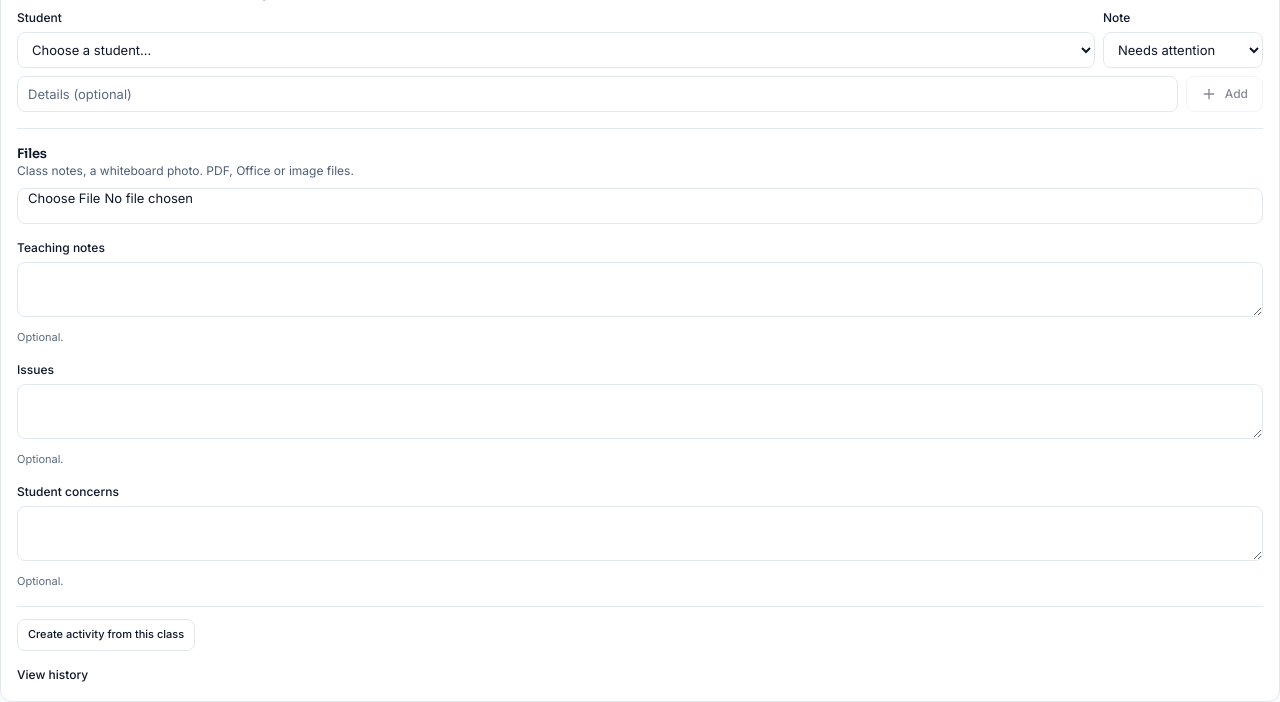
Test case: DsrPanel — follow-up (create activity, history) › creates the activity and shows a link to it on success
The width and height of the screenshot is (1280, 702).
(page scrolled)
Step 1. Click the button "Create activity from this class" → (106,635), box [17,619,195,651]
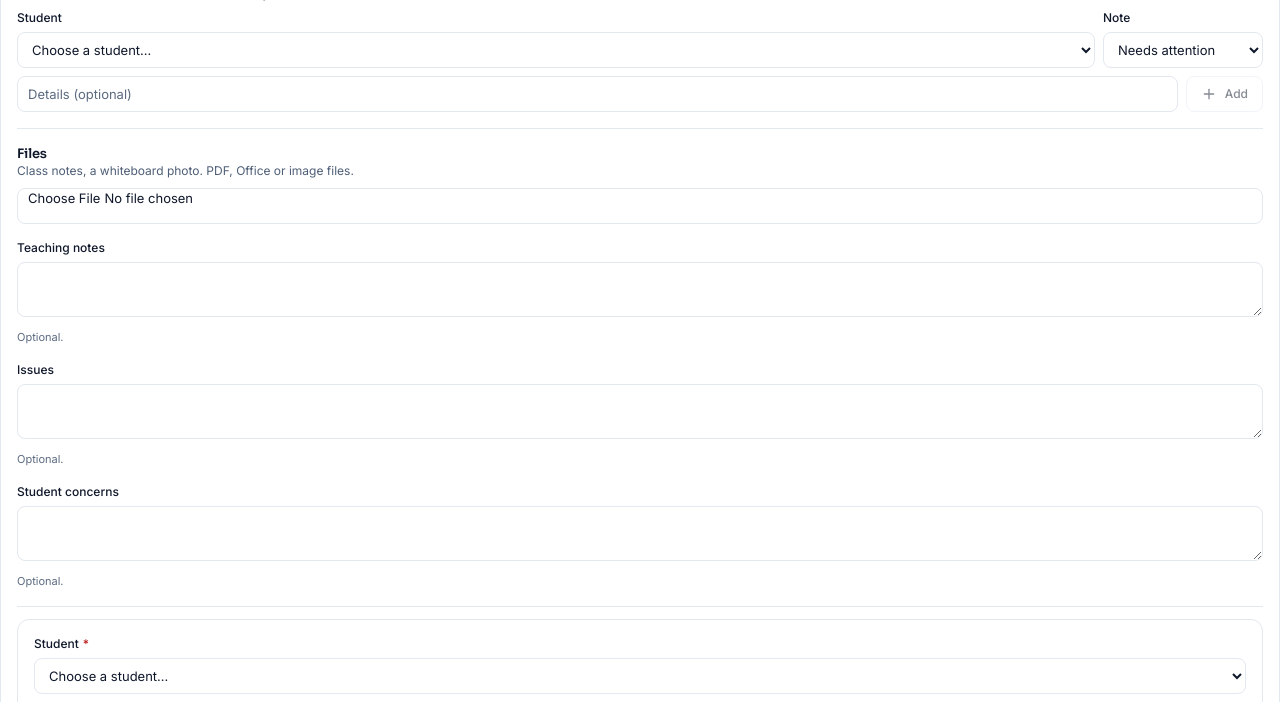
Step 2. Select "Sam Student (GRS-S-001)" in the dropdown labelled "Student*" → (640,676), box [34,658,1246,694]
(page scrolled)
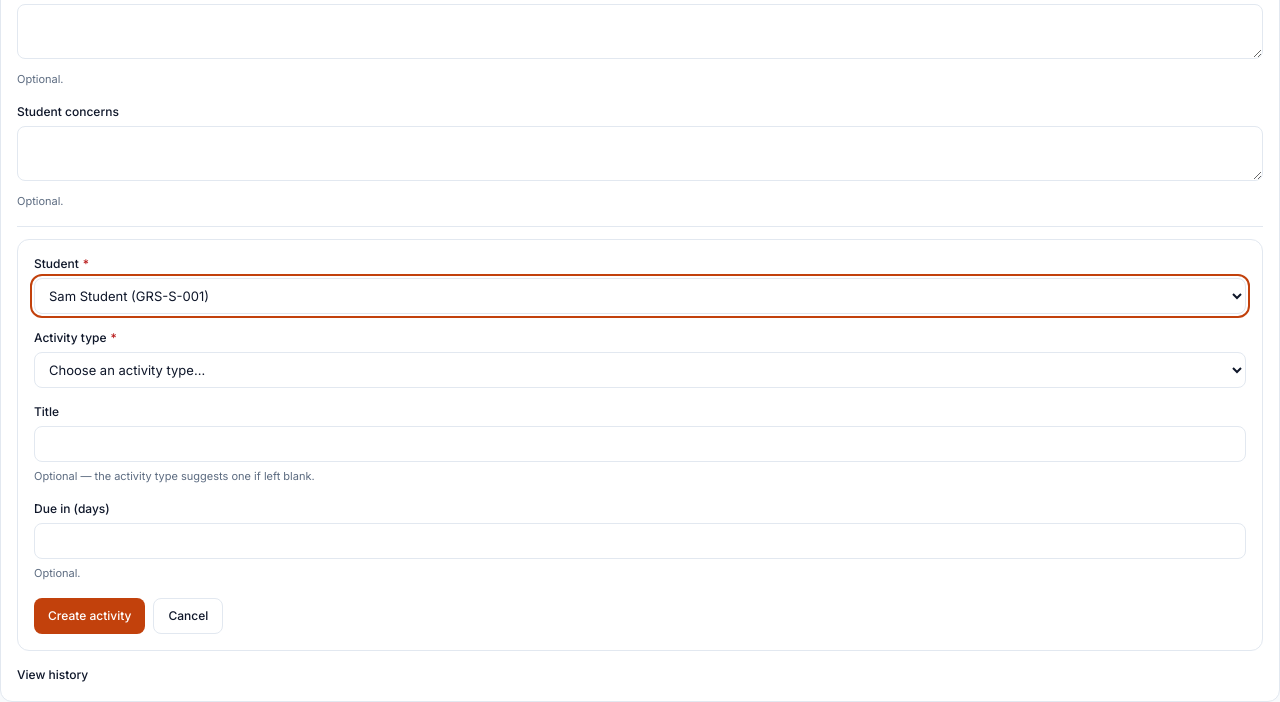
Step 3. Select "Mentoring" in the dropdown labelled "Activity type*" → (640,370), box [34,352,1246,388]
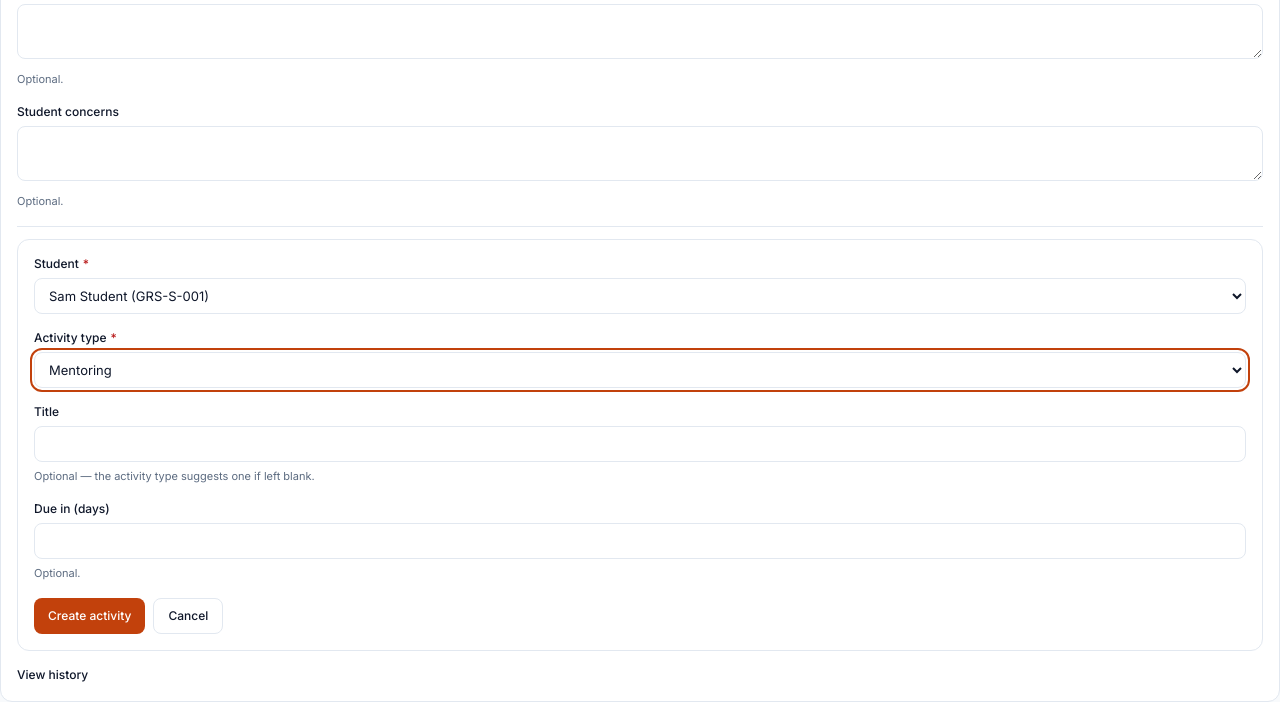
Step 4. Click the button "Create activity" → (90,616), box [34,598,145,634]
(page scrolled)
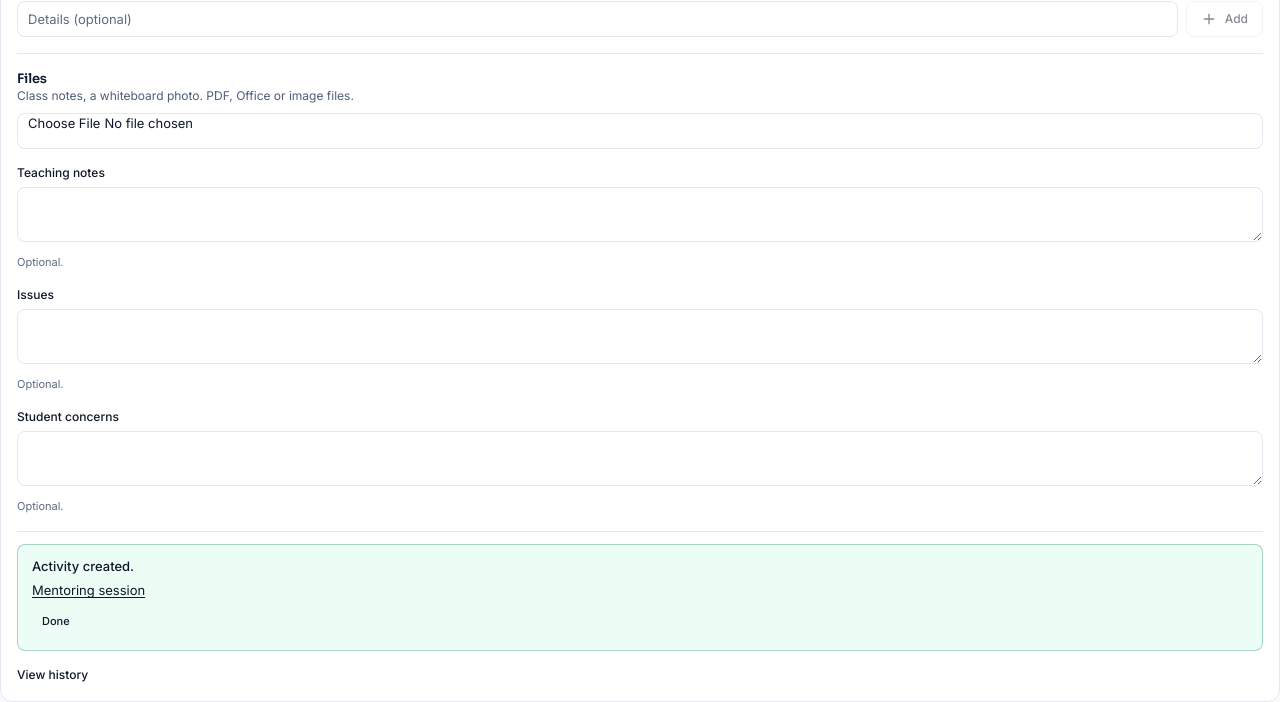
Expected: the text "Activity created." is shown, [32,558,134,574]
